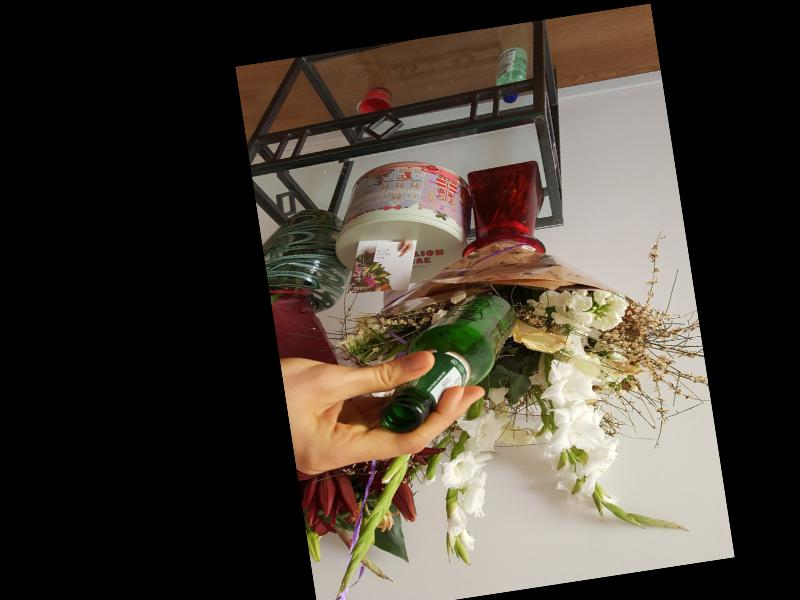Beer: (366, 290, 529, 436)
